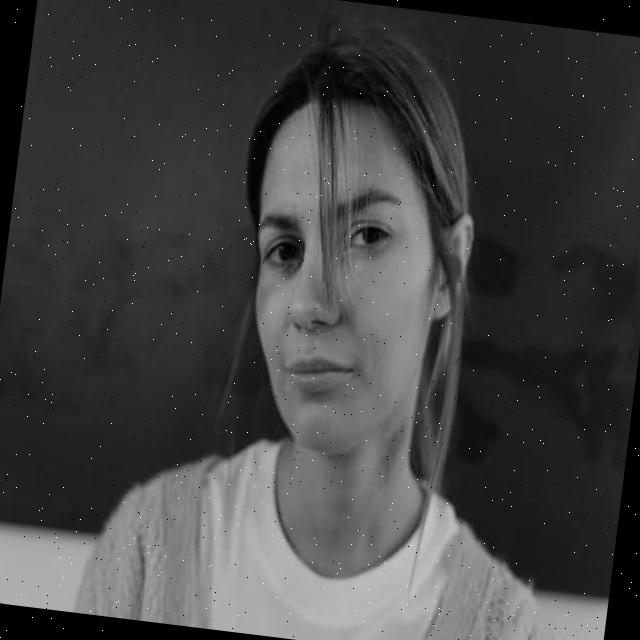Sadness: (229, 82, 447, 464)
